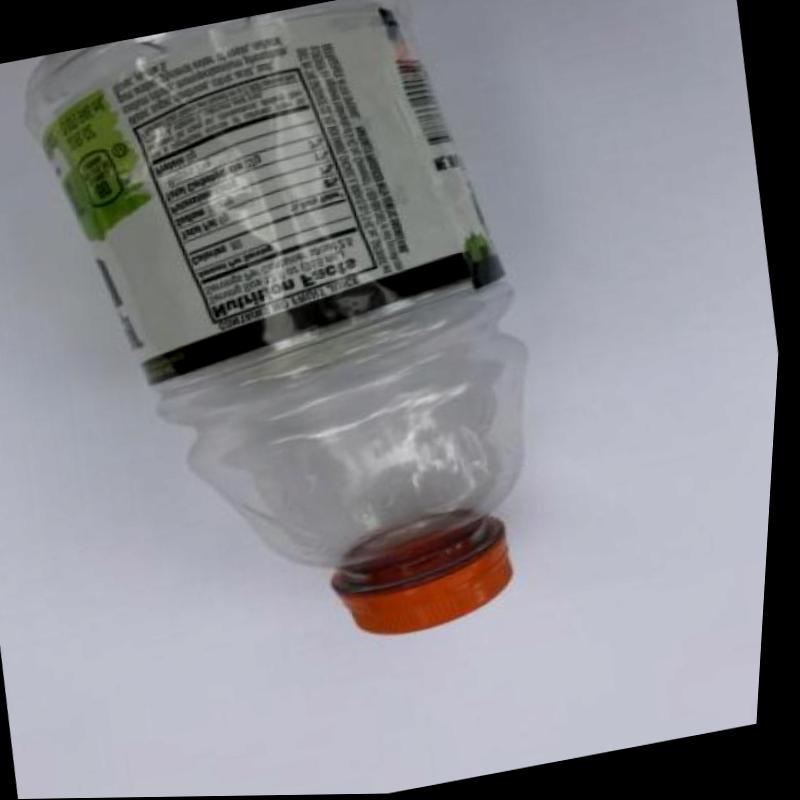botella: (0, 0, 596, 698)
